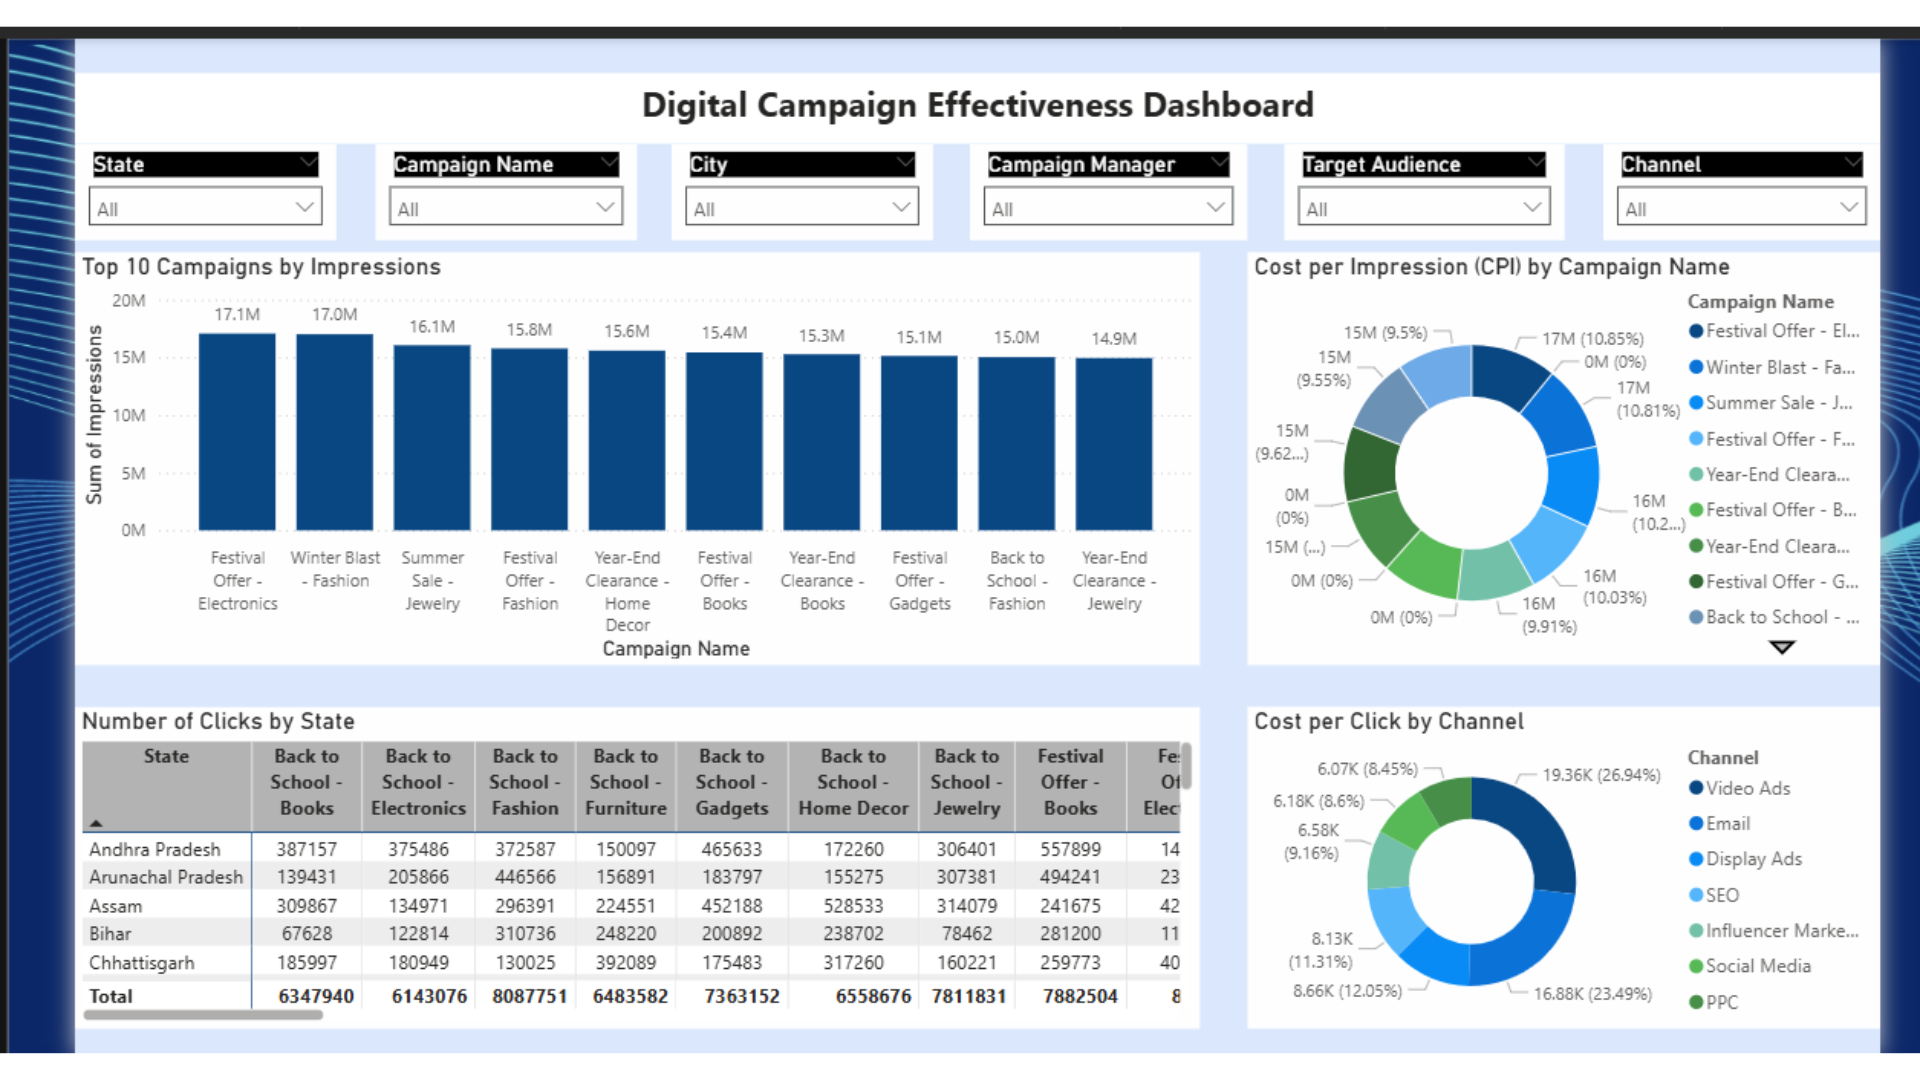

The dashboard page shown, as its layout file describes it:
{"tool":"powerbi","page":{"name":"Summary","canvas":[1280,720],"ordinal":0},"visuals":[{"type":"slicer","fields":{"Values":["Sheet1.State"]},"box":[0,74.8,185.4,68.3],"z":0},{"type":"slicer","fields":{"Values":["Sheet1.City"]},"box":[422.9,74.8,185.4,68.3],"z":1000},{"type":"textbox","box":[0,24.8,1280.5,49.7],"z":2000},{"type":"slicer","fields":{"Values":["Sheet1.Campaign Name"]},"box":[213.2,74.8,185.5,67.9],"z":3000},{"type":"slicer","fields":{"Values":["Sheet1.Campaign Manager"]},"box":[634.4,74.8,196.8,68.3],"z":4000},{"type":"slicer","fields":{"Values":["Sheet1.Target Audience"]},"box":[857.2,74.8,198.4,68.3],"z":5000},{"type":"pivotTable","title":"Number of Clicks by State","fields":{"Rows":["Sheet1.State"],"Values":["Sum(Sheet1.Clicks)"],"Columns":["Sheet1.Campaign Name"]},"box":[0,473.3,797,227.7],"z":6000},{"type":"columnChart","title":"Top 10 Campaigns by Impressions","fields":{"Y":["Sum(Sheet1.Impressions)"],"Category":["Sheet1.Campaign Name"]},"box":[0,151.3,797,292.8],"z":7000},{"type":"donutChart","title":"Cost per Impression (CPI) by Campaign Name","fields":{"Category":["Sheet1.Campaign Name"],"Y":["Sum(Sheet1.Impressions)","Sum(Sheet1.Cost Per Impression (CPI))"]},"box":[831.2,151.3,448.9,292.8],"z":8000},{"type":"donutChart","title":"Cost per Click by Channel","fields":{"Category":["Sheet1.Channel"],"Y":["Sum(Sheet1.Cost Per Click (CPC))"]},"box":[831.2,473.3,448.9,227.7],"z":9000},{"type":"slicer","fields":{"Values":["Sheet1.Channel"]},"box":[1083.3,74.8,196.8,68.3],"z":10000}]}

Visuals, with their boxes in screenshot pixels (x1, y1, x2, y2), scaled from the page's 1280x720 canvas onto the 1920x1080 screenshot:
slicer - Sheet1.State: [0,112,278,215]
slicer - Sheet1.City: [634,112,912,215]
textbox: [0,37,1919,112]
slicer - Sheet1.Campaign Name: [320,112,598,214]
slicer - Sheet1.Campaign Manager: [952,112,1247,215]
slicer - Sheet1.Target Audience: [1286,112,1583,215]
"Number of Clicks by State" pivotTable: [0,710,1196,1052]
"Top 10 Campaigns by Impressions" columnChart: [0,227,1196,666]
"Cost per Impression (CPI) by Campaign Name" donutChart: [1247,227,1919,666]
"Cost per Click by Channel" donutChart: [1247,710,1919,1052]
slicer - Sheet1.Channel: [1625,112,1919,215]
